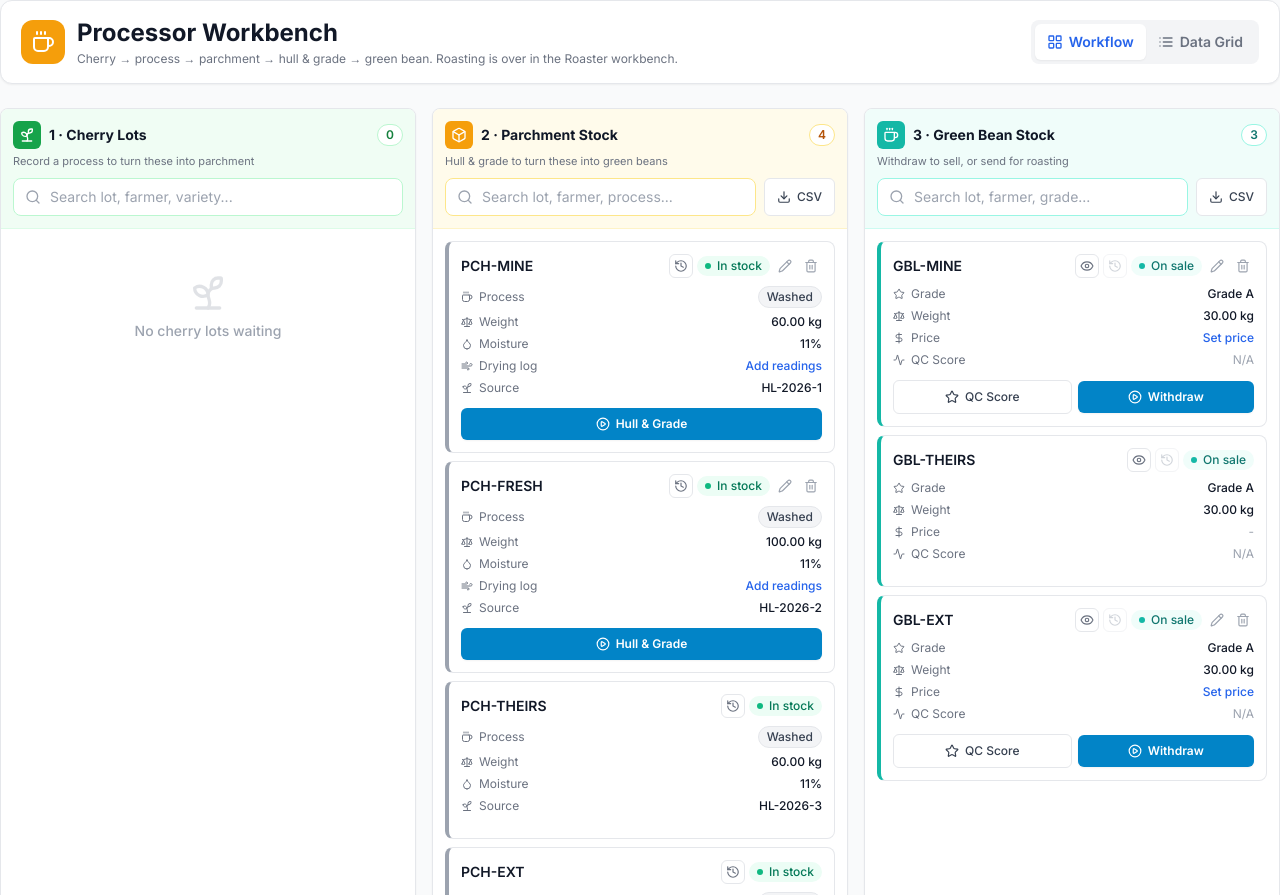
Test: Workbench edit and delete (F24) › deletes a batch's untouched parchment as the batch only and hands its cherry lot back
Expected: the button "Record Process" is not shown
Click the button named "Delete parchment lot PCH-FRESH" at [811, 486], box [800, 474, 822, 496]
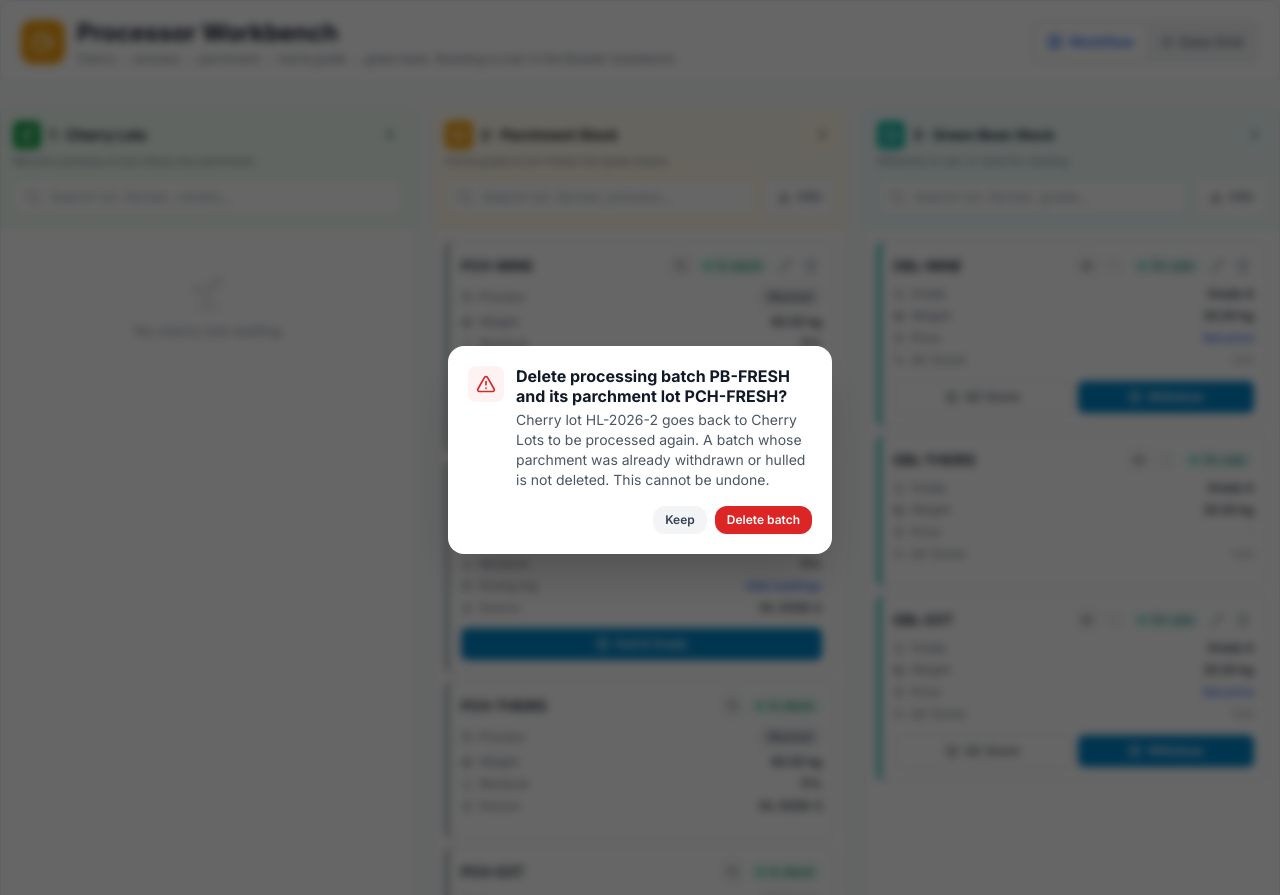
Expected: the dialog "Delete " shows "Cherry lot HL-2026-2 goes back to Cherry Lots", [516, 411, 805, 488]
Click the button "Delete batch" at [763, 520], box [715, 506, 812, 534]
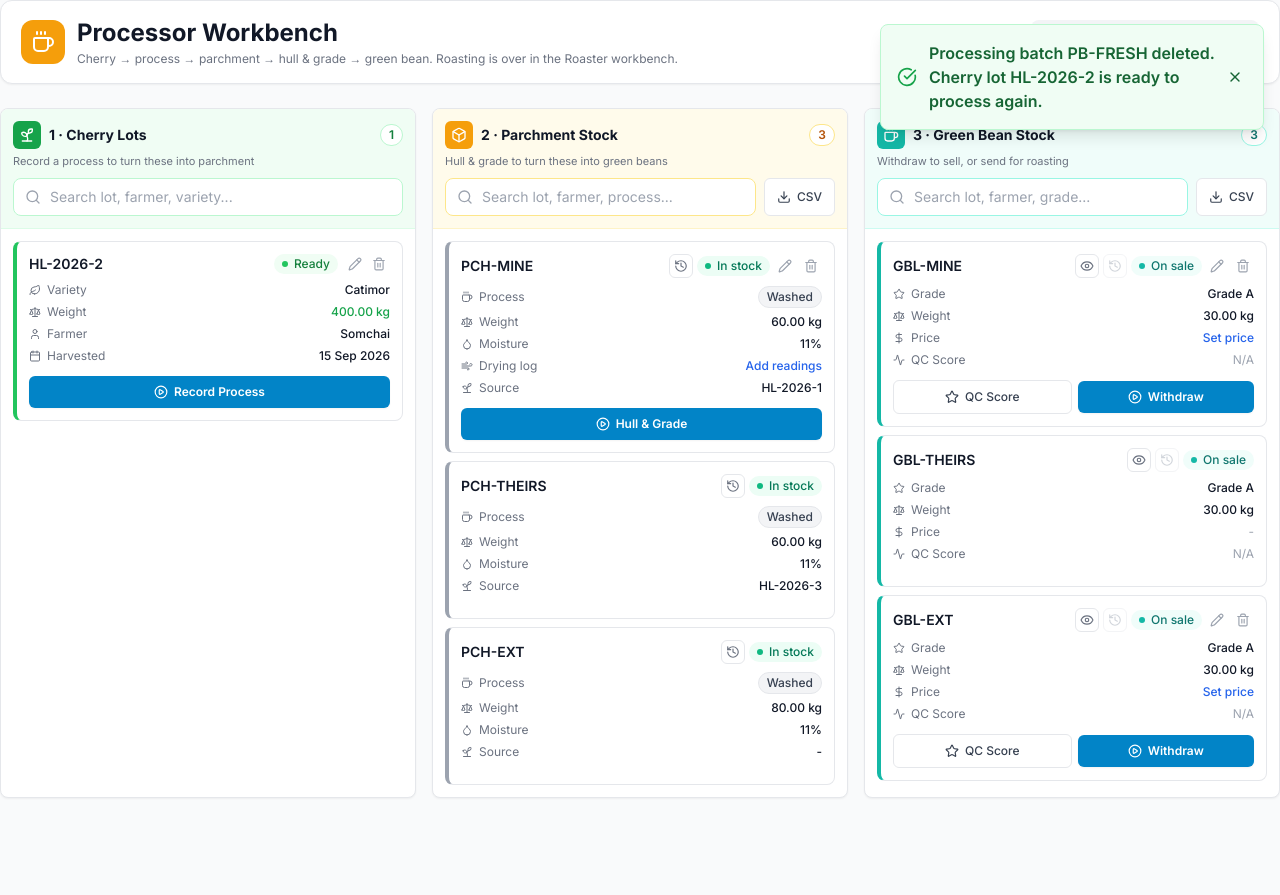
Expected: the text "Edit parchment lot PCH-FRESH" is gone
Expected: the button "Record Process" is shown, [29, 376, 390, 408]
